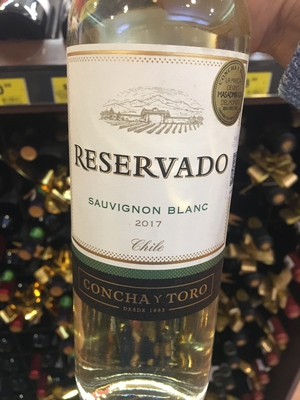reservado sauvignon blanc: (64, 1, 261, 400)
